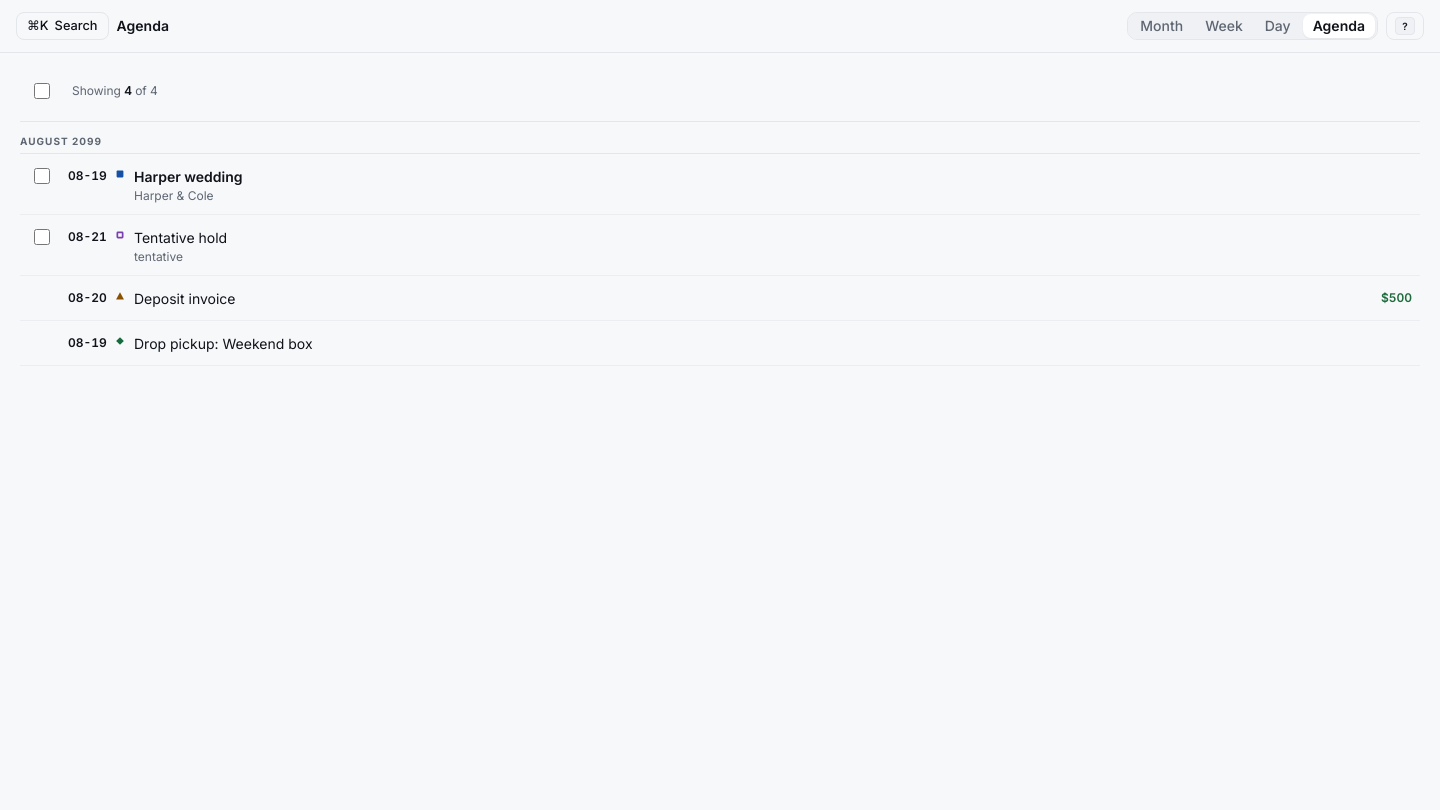
Test case: peek — opening › works on the agenda too, for kinds that carry no drag handle
Click the link "Deposit invoice" at (185, 298), box [134, 290, 236, 307]
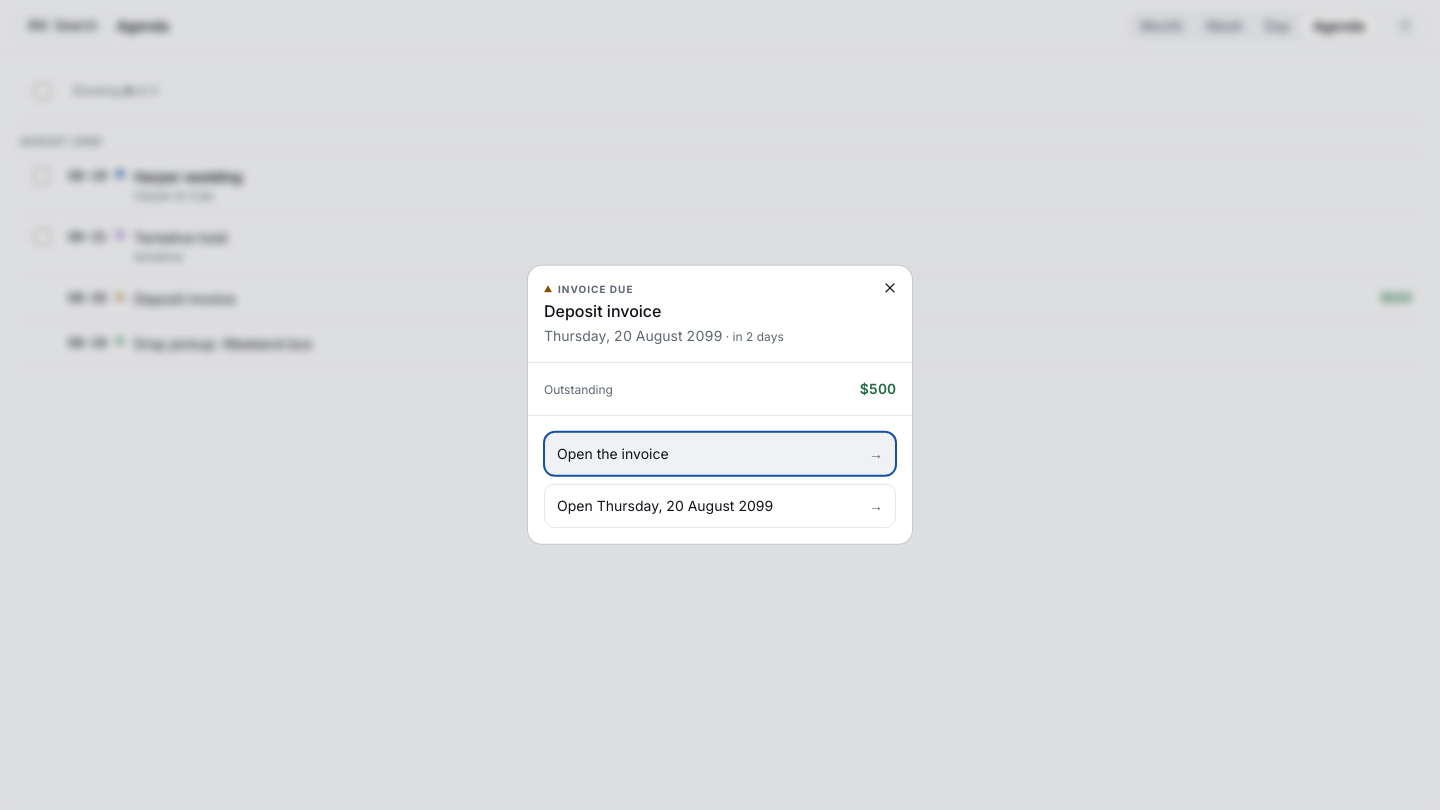
Check: the heading "Deposit invoice" is shown, box [544, 301, 662, 321]
Check: the text "$500" is shown, box [860, 379, 896, 399]
